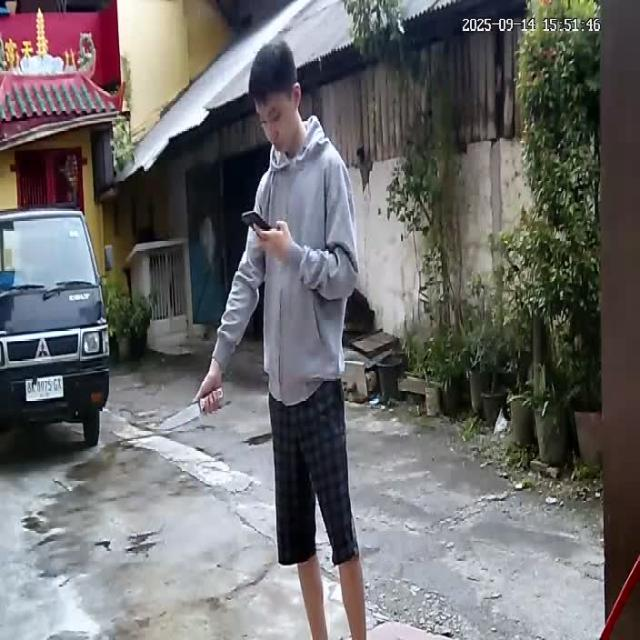senjata_tajam: (151, 402, 202, 432)
